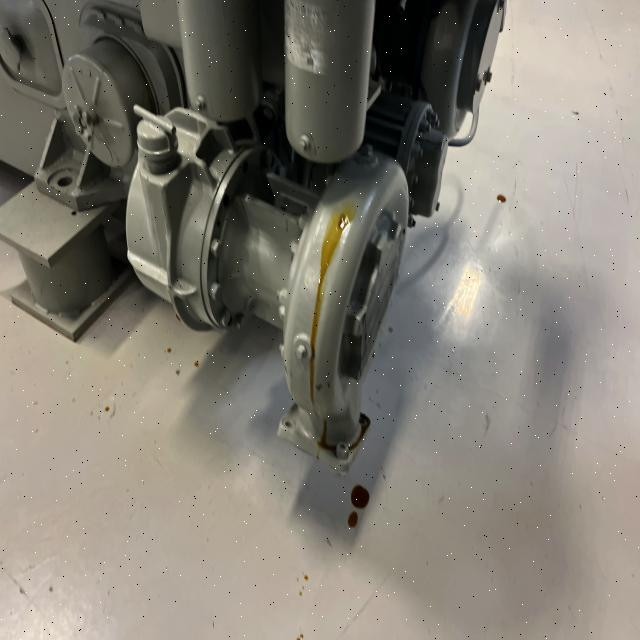Oil Leak: (288, 199, 357, 406), (343, 413, 373, 453), (312, 420, 337, 455), (345, 482, 374, 512), (347, 511, 358, 528), (495, 192, 507, 205), (329, 447, 337, 452)
